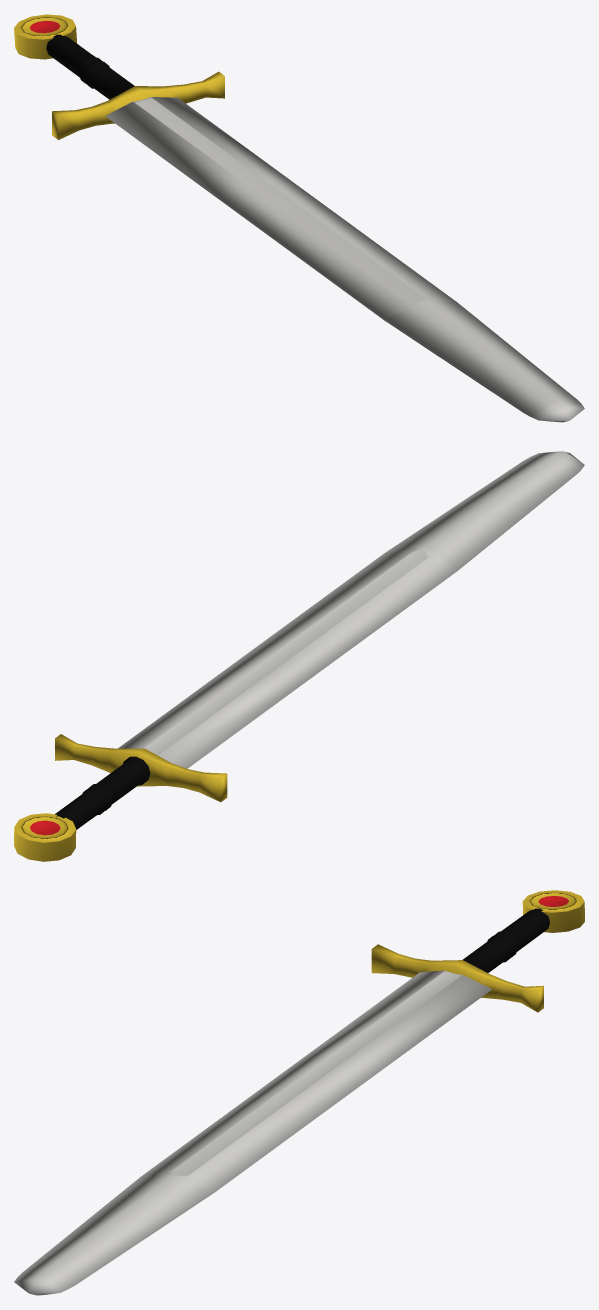
Rendered from SWORDFINALE(1).fbx.
3 renders of one model, top to bottom at view 1: azimuth 30°, elevation 25°; view 2: azimuth 150°, elevation 25°; view 3: azimuth 330°, elevation 25°, orthographic.
Parts seen in each view (by area): view 1: Cylinder; view 2: Cylinder; view 3: Cylinder.
Boxes of the visible parts, left/top/right/bottom form: Cylinder: left=14, top=14, right=584, bottom=422; Cylinder: left=14, top=451, right=584, bottom=861; Cylinder: left=14, top=890, right=584, bottom=1295.
Size of the model in its own units: 825 by 151 by 4639.
